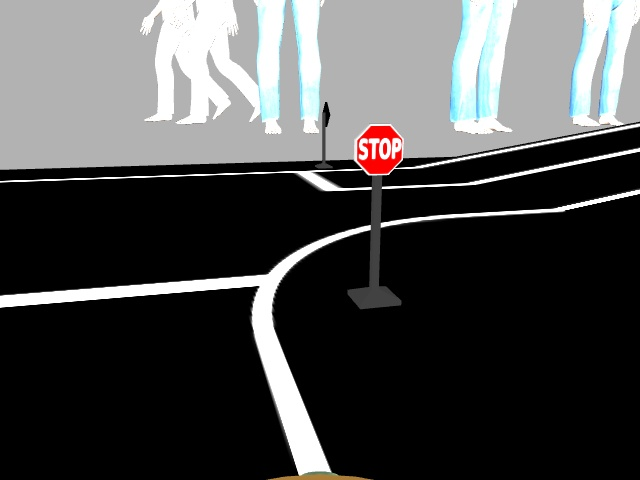Stop: (352, 124, 402, 173)
